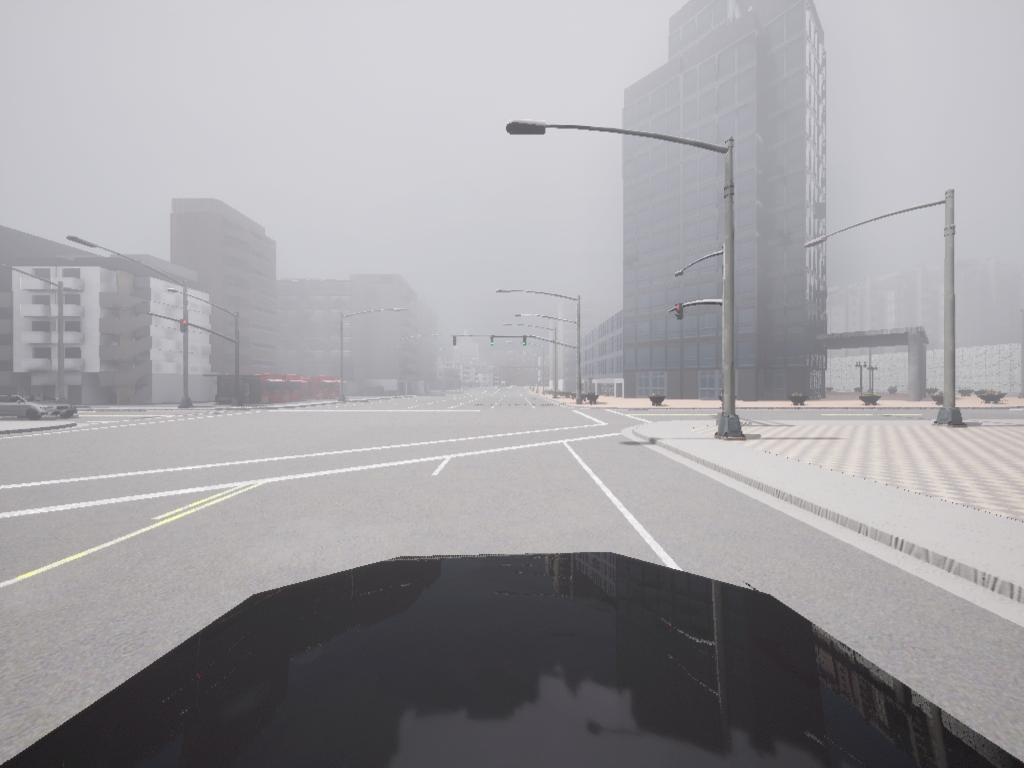traffic_light: (676, 304, 684, 321), (454, 336, 458, 348), (523, 336, 527, 347), (491, 336, 495, 347)
